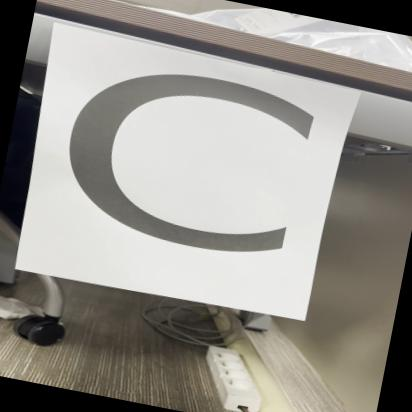seat: (15, 28, 354, 320)
